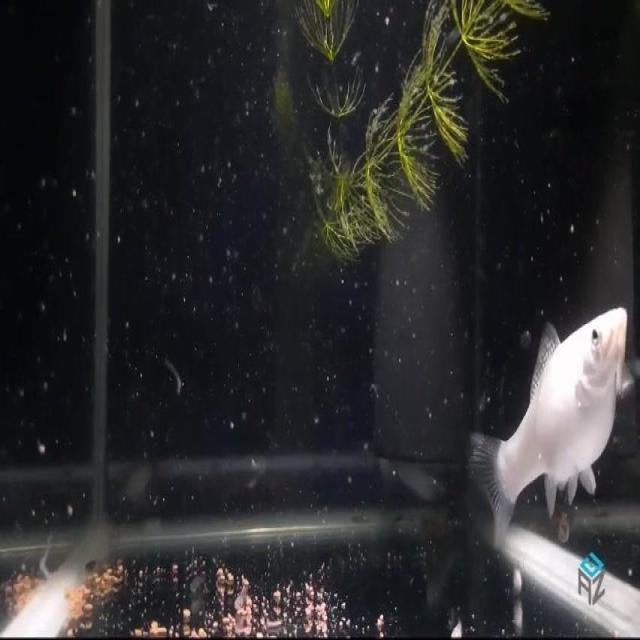PlatyFish: (460, 292, 634, 560)
